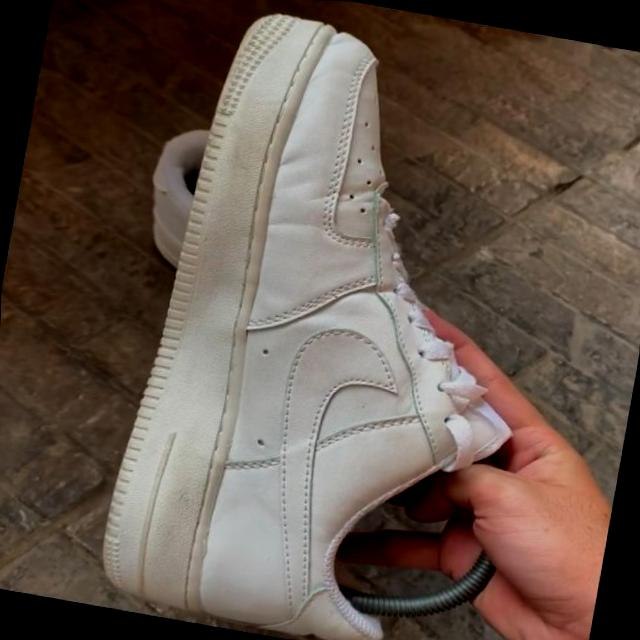nike_fake_airforce: (81, 0, 598, 640)
